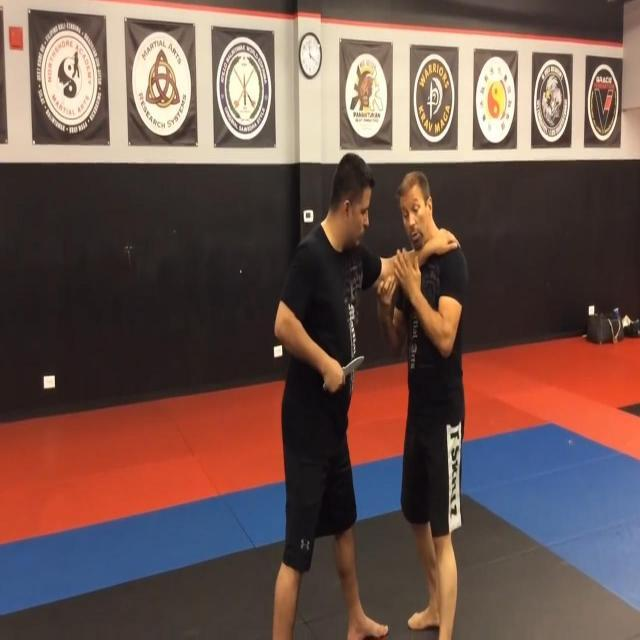Knife: (320, 348, 366, 392)
